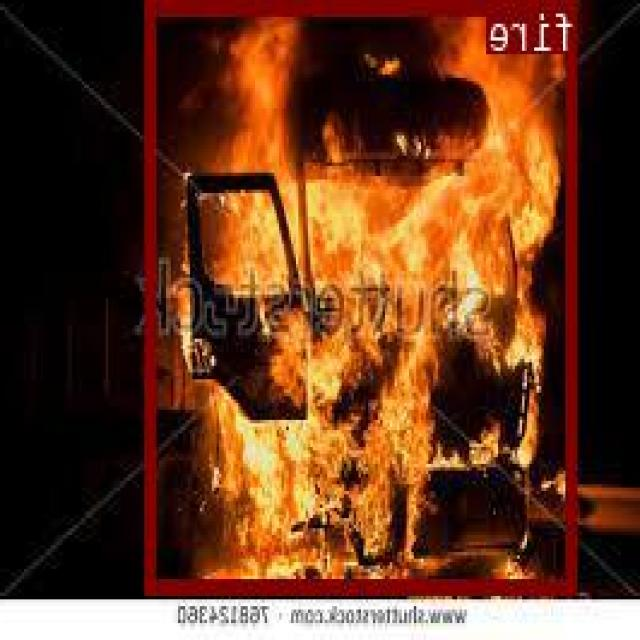fire: (149, 0, 580, 593)
